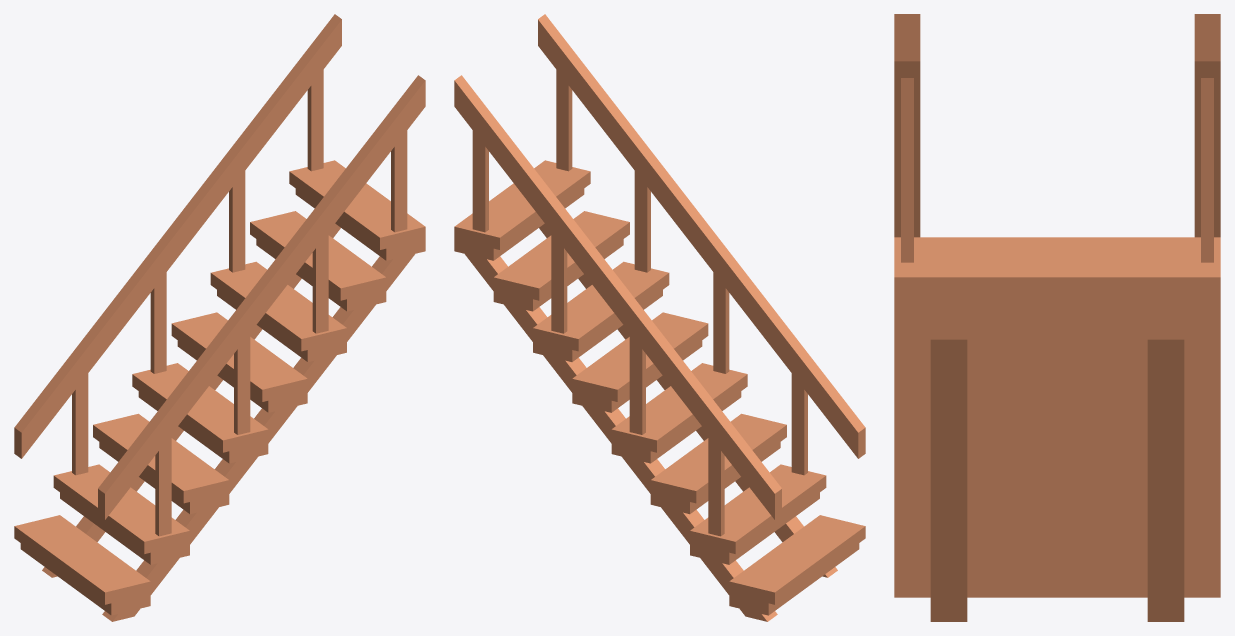
Rendered from stairsWoodHandrail.obj.
3 renders of one model, left to right at view 1: azimuth 30°, elevation 25°; view 2: azimuth 150°, elevation 25°; view 3: azimuth 270°, elevation 25°, orthographic. The views are drawn at different scales.
Parts seen in each view (by area): view 1: stairsWoodHandrail, rail; view 2: stairsWoodHandrail, rail; view 3: stairsWoodHandrail, rail.
Boxes of the visible parts, x1,y1,x2,y2 form: stairsWoodHandrail: [14, 160, 425, 621]; rail: [14, 14, 425, 536]; stairsWoodHandrail: [454, 160, 865, 621]; rail: [454, 14, 865, 536]; stairsWoodHandrail: [894, 237, 1220, 621]; rail: [894, 14, 1220, 262].
Bounding box in the file's own units: 1.02 × 1.45 × 0.5.
